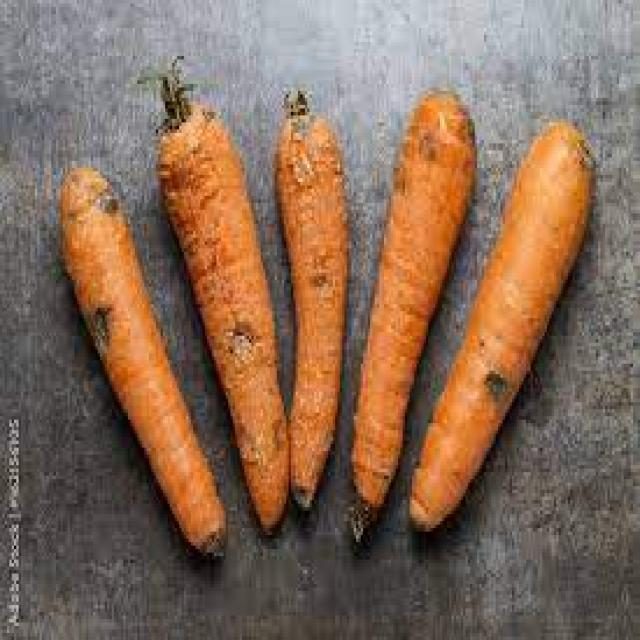Stale_Carrot: (324, 95, 486, 556), (412, 119, 592, 532), (62, 168, 230, 564), (56, 168, 214, 559), (160, 61, 285, 528), (185, 133, 289, 540), (281, 48, 349, 531), (413, 248, 530, 512), (276, 118, 348, 511)
